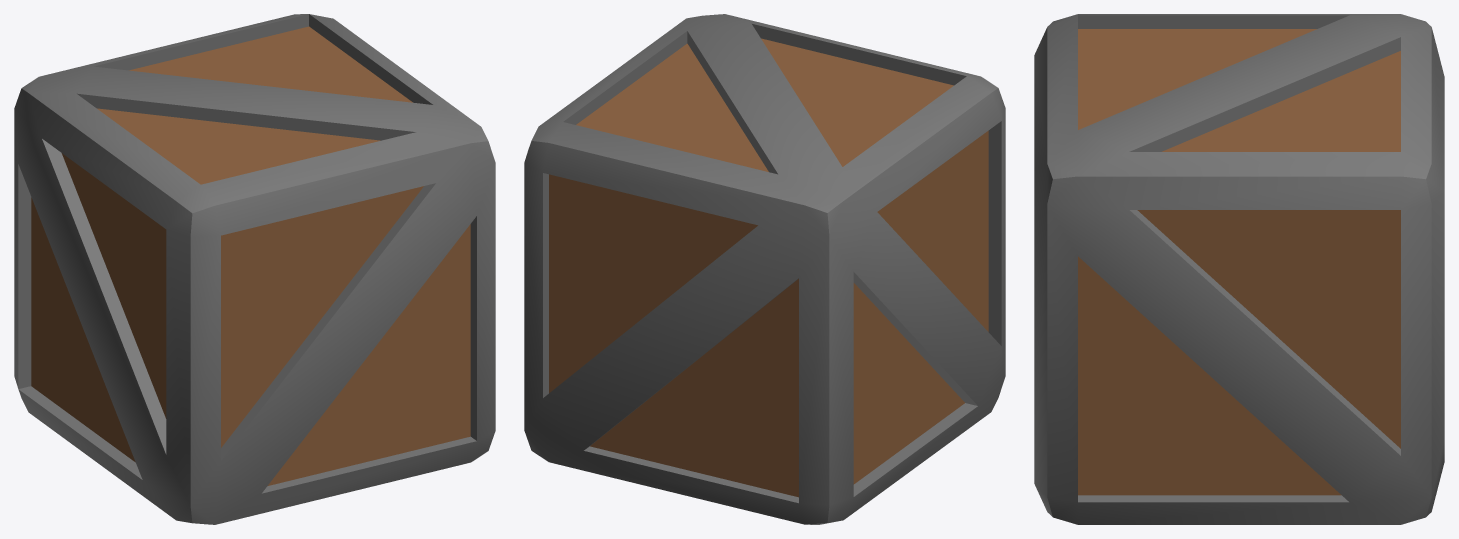
3 renders of one model, left to right at view 1: azimuth 30°, elevation 25°; view 2: azimuth 150°, elevation 25°; view 3: azimuth 270°, elevation 25°, orthographic. The views are drawn at different scales.
Visible parts, largest first — view 1: Kaari.004; view 2: Kaari.004; view 3: Kaari.004.
Part boxes in pixels (x1,y1,x2,y2): Kaari.004: [14, 14, 495, 524]; Kaari.004: [524, 14, 1005, 524]; Kaari.004: [1034, 14, 1444, 524].
Size of the model in its own units: 1.47 by 1.47 by 1.47.
